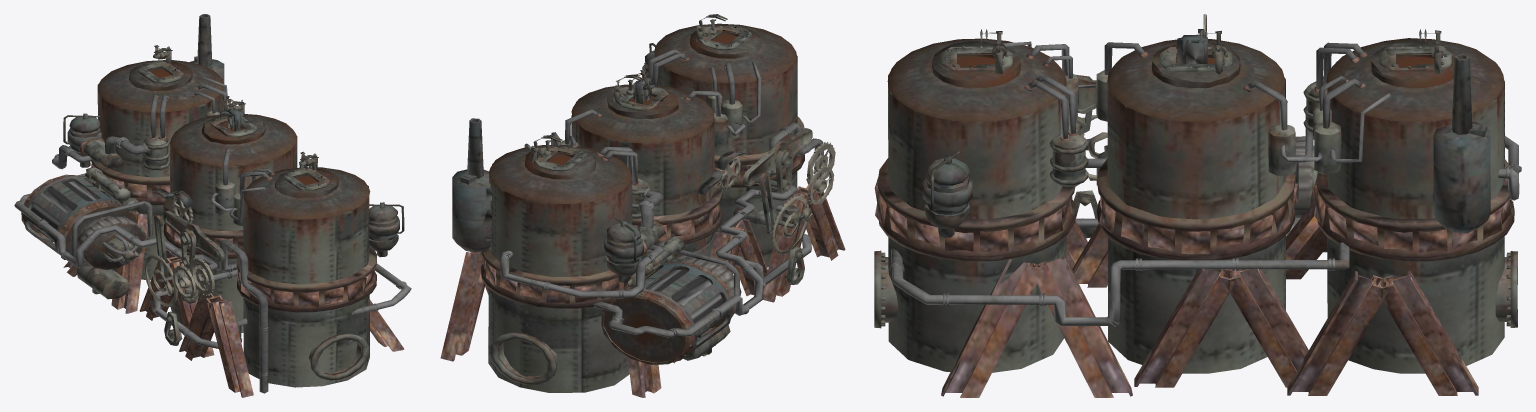
Rendered from steam-engine.glb.
The picture shows the model from 3 angles, left to right: view 1: azimuth 30°, elevation 25°; view 2: azimuth 150°, elevation 25°; view 3: azimuth 270°, elevation 25°; orthographic projection. The views are drawn at different scales.
Visible parts, largest first — view 1: body, anim_spin_flywheel.001, anim_spin_flywheel.003, anim_spin_flywheel.002, anim_spin_flywheel.004; view 2: body, anim_spin_flywheel.001, anim_spin_flywheel.003, anim_spin_flywheel.002, anim_spin_flywheel.004, anim_spin_flywheel; view 3: body.
Part boxes in pixels (x1,y1,x2,y2): body: [14, 14, 411, 397]; anim_spin_flywheel.001: [144, 254, 177, 306]; anim_spin_flywheel.003: [189, 257, 214, 295]; anim_spin_flywheel.002: [173, 265, 196, 299]; anim_spin_flywheel.004: [164, 311, 182, 345]; body: [440, 14, 845, 397]; anim_spin_flywheel.001: [771, 195, 812, 254]; anim_spin_flywheel.003: [807, 142, 835, 184]; anim_spin_flywheel.002: [807, 166, 834, 204]; anim_spin_flywheel.004: [784, 246, 804, 284]; anim_spin_flywheel: [718, 156, 741, 190]; body: [874, 14, 1521, 397].
Size of the model in its own units: 2.95 by 2.71 by 4.97.
Materials: 1 (1 with a texture image).
